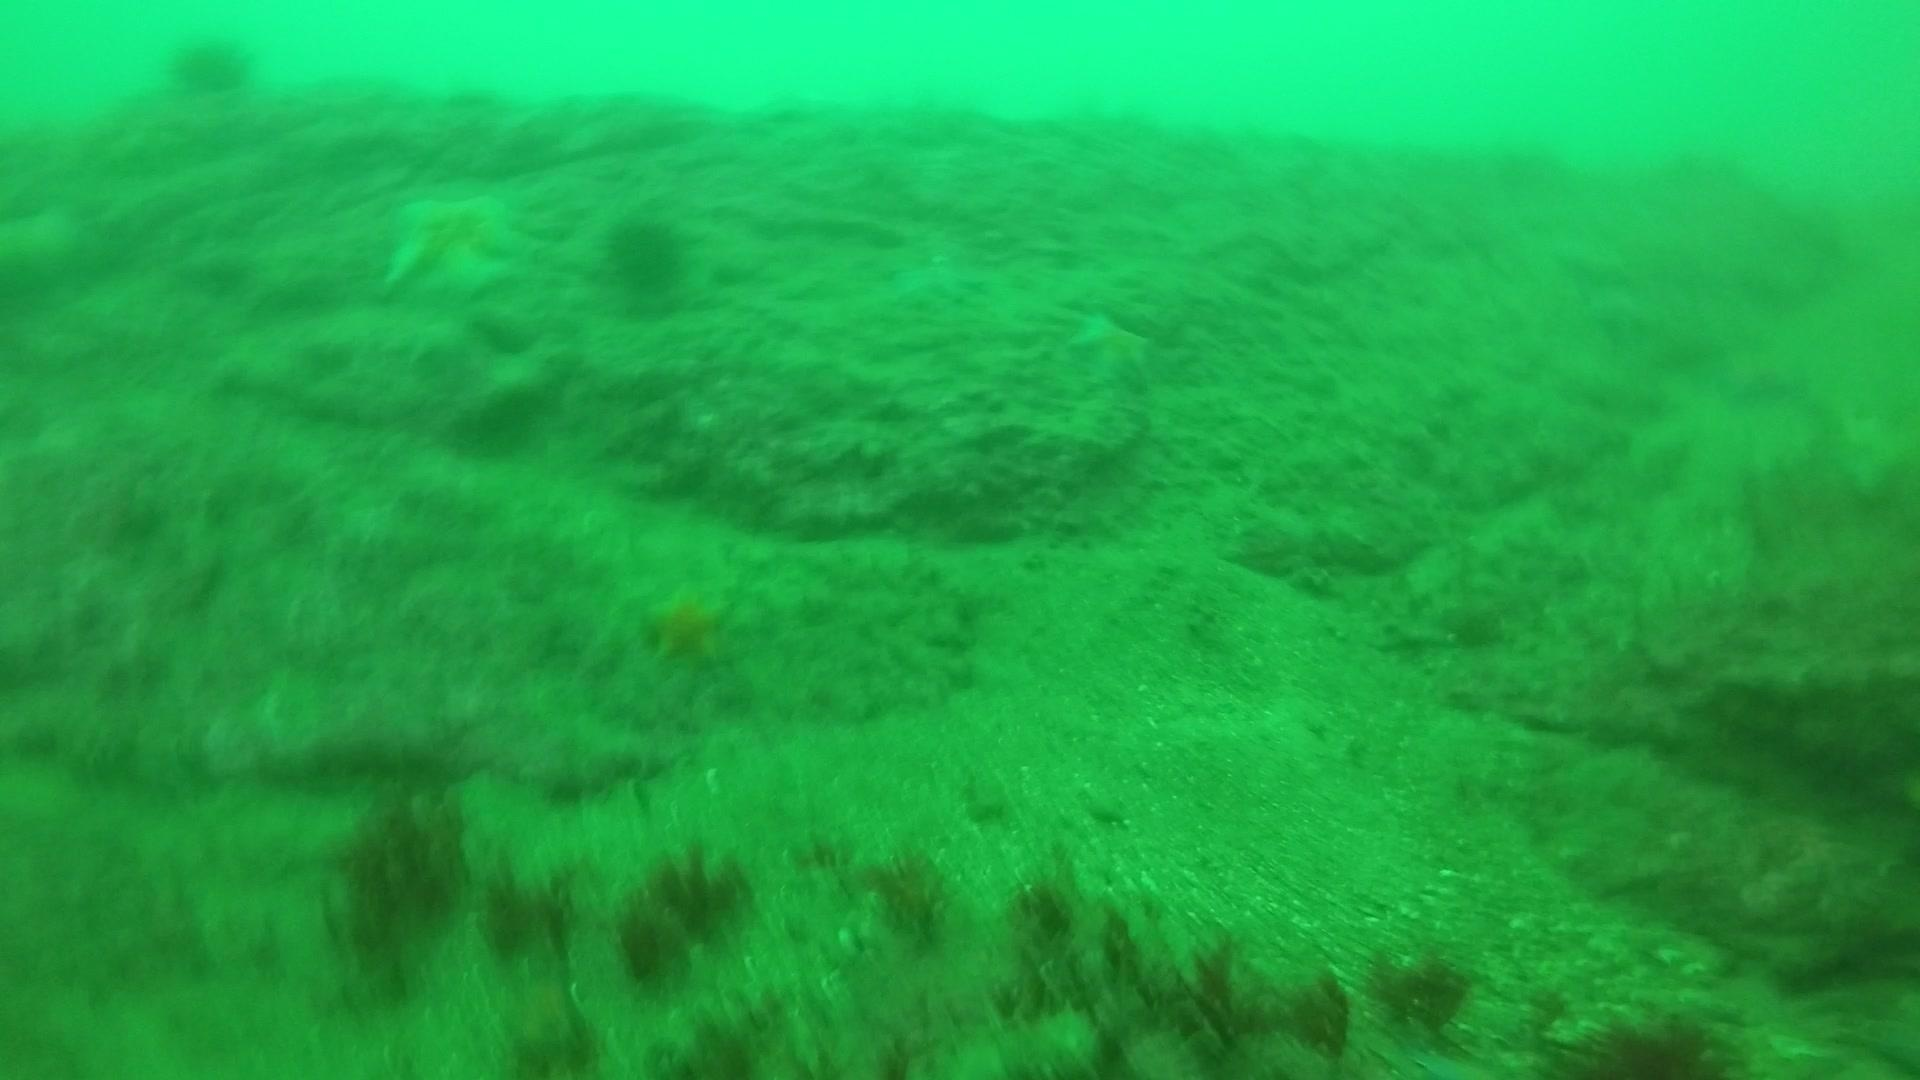echinus: (1557, 1006, 1747, 1077), (596, 207, 696, 305), (161, 28, 258, 104)
starfish: (377, 179, 531, 305), (632, 568, 746, 674), (1059, 298, 1164, 396), (876, 244, 989, 310)
